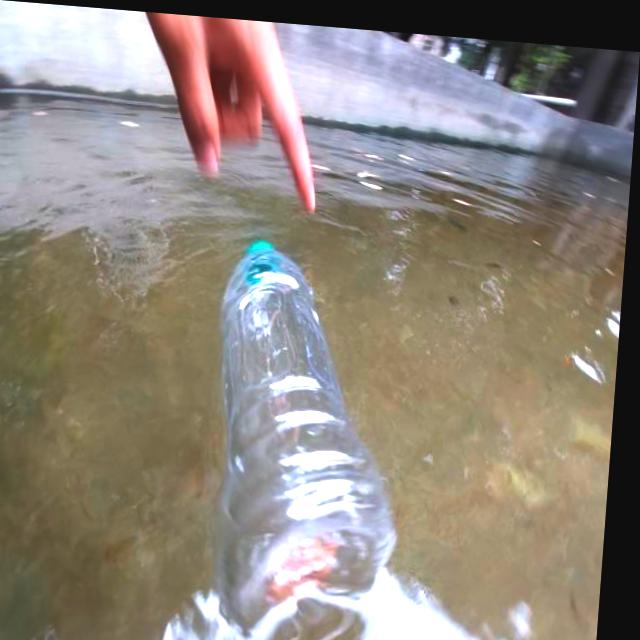waterbottle: (196, 183, 430, 640)
